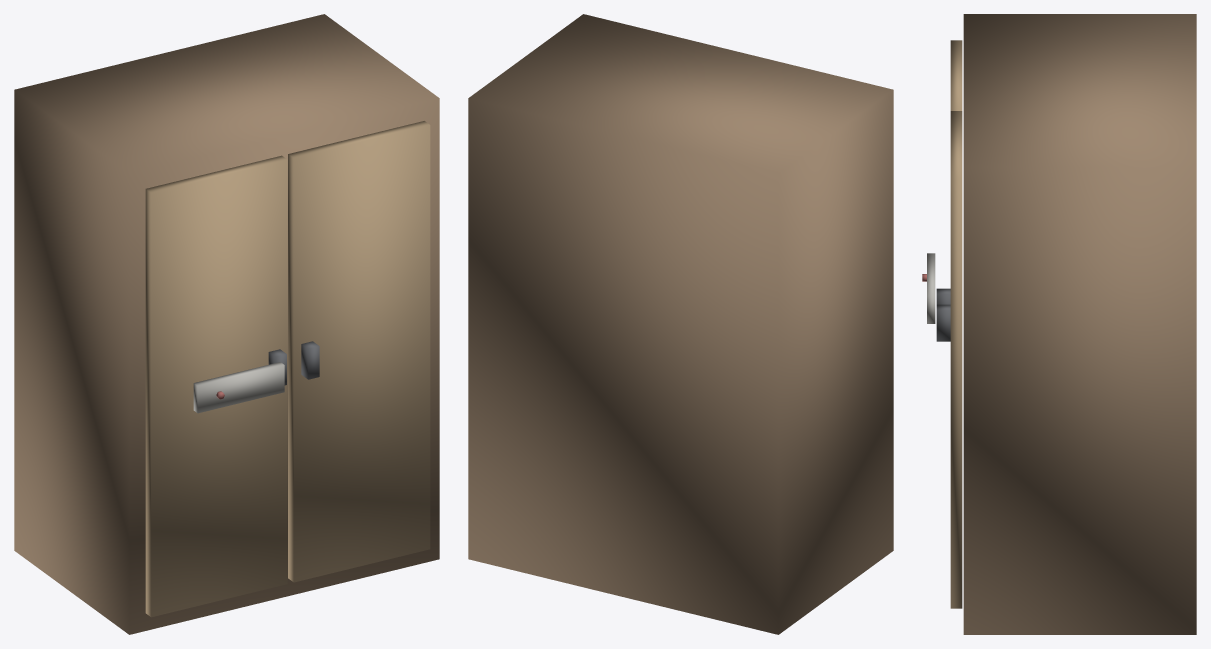
The model's file is case_file_cabinet__deep.glb.
3 renders of one model, left to right at view 1: azimuth 30°, elevation 25°; view 2: azimuth 150°, elevation 25°; view 3: azimuth 270°, elevation 25°, orthographic.
Parts seen in each view (by area): view 1: world; view 2: world; view 3: world.
Boxes of the visible parts, bbox=[...] form: world: bbox=[14, 14, 439, 634]; world: bbox=[468, 14, 893, 634]; world: bbox=[922, 14, 1196, 634].
Bounding box in the file's own units: 0.95 × 1.35 × 0.718.
